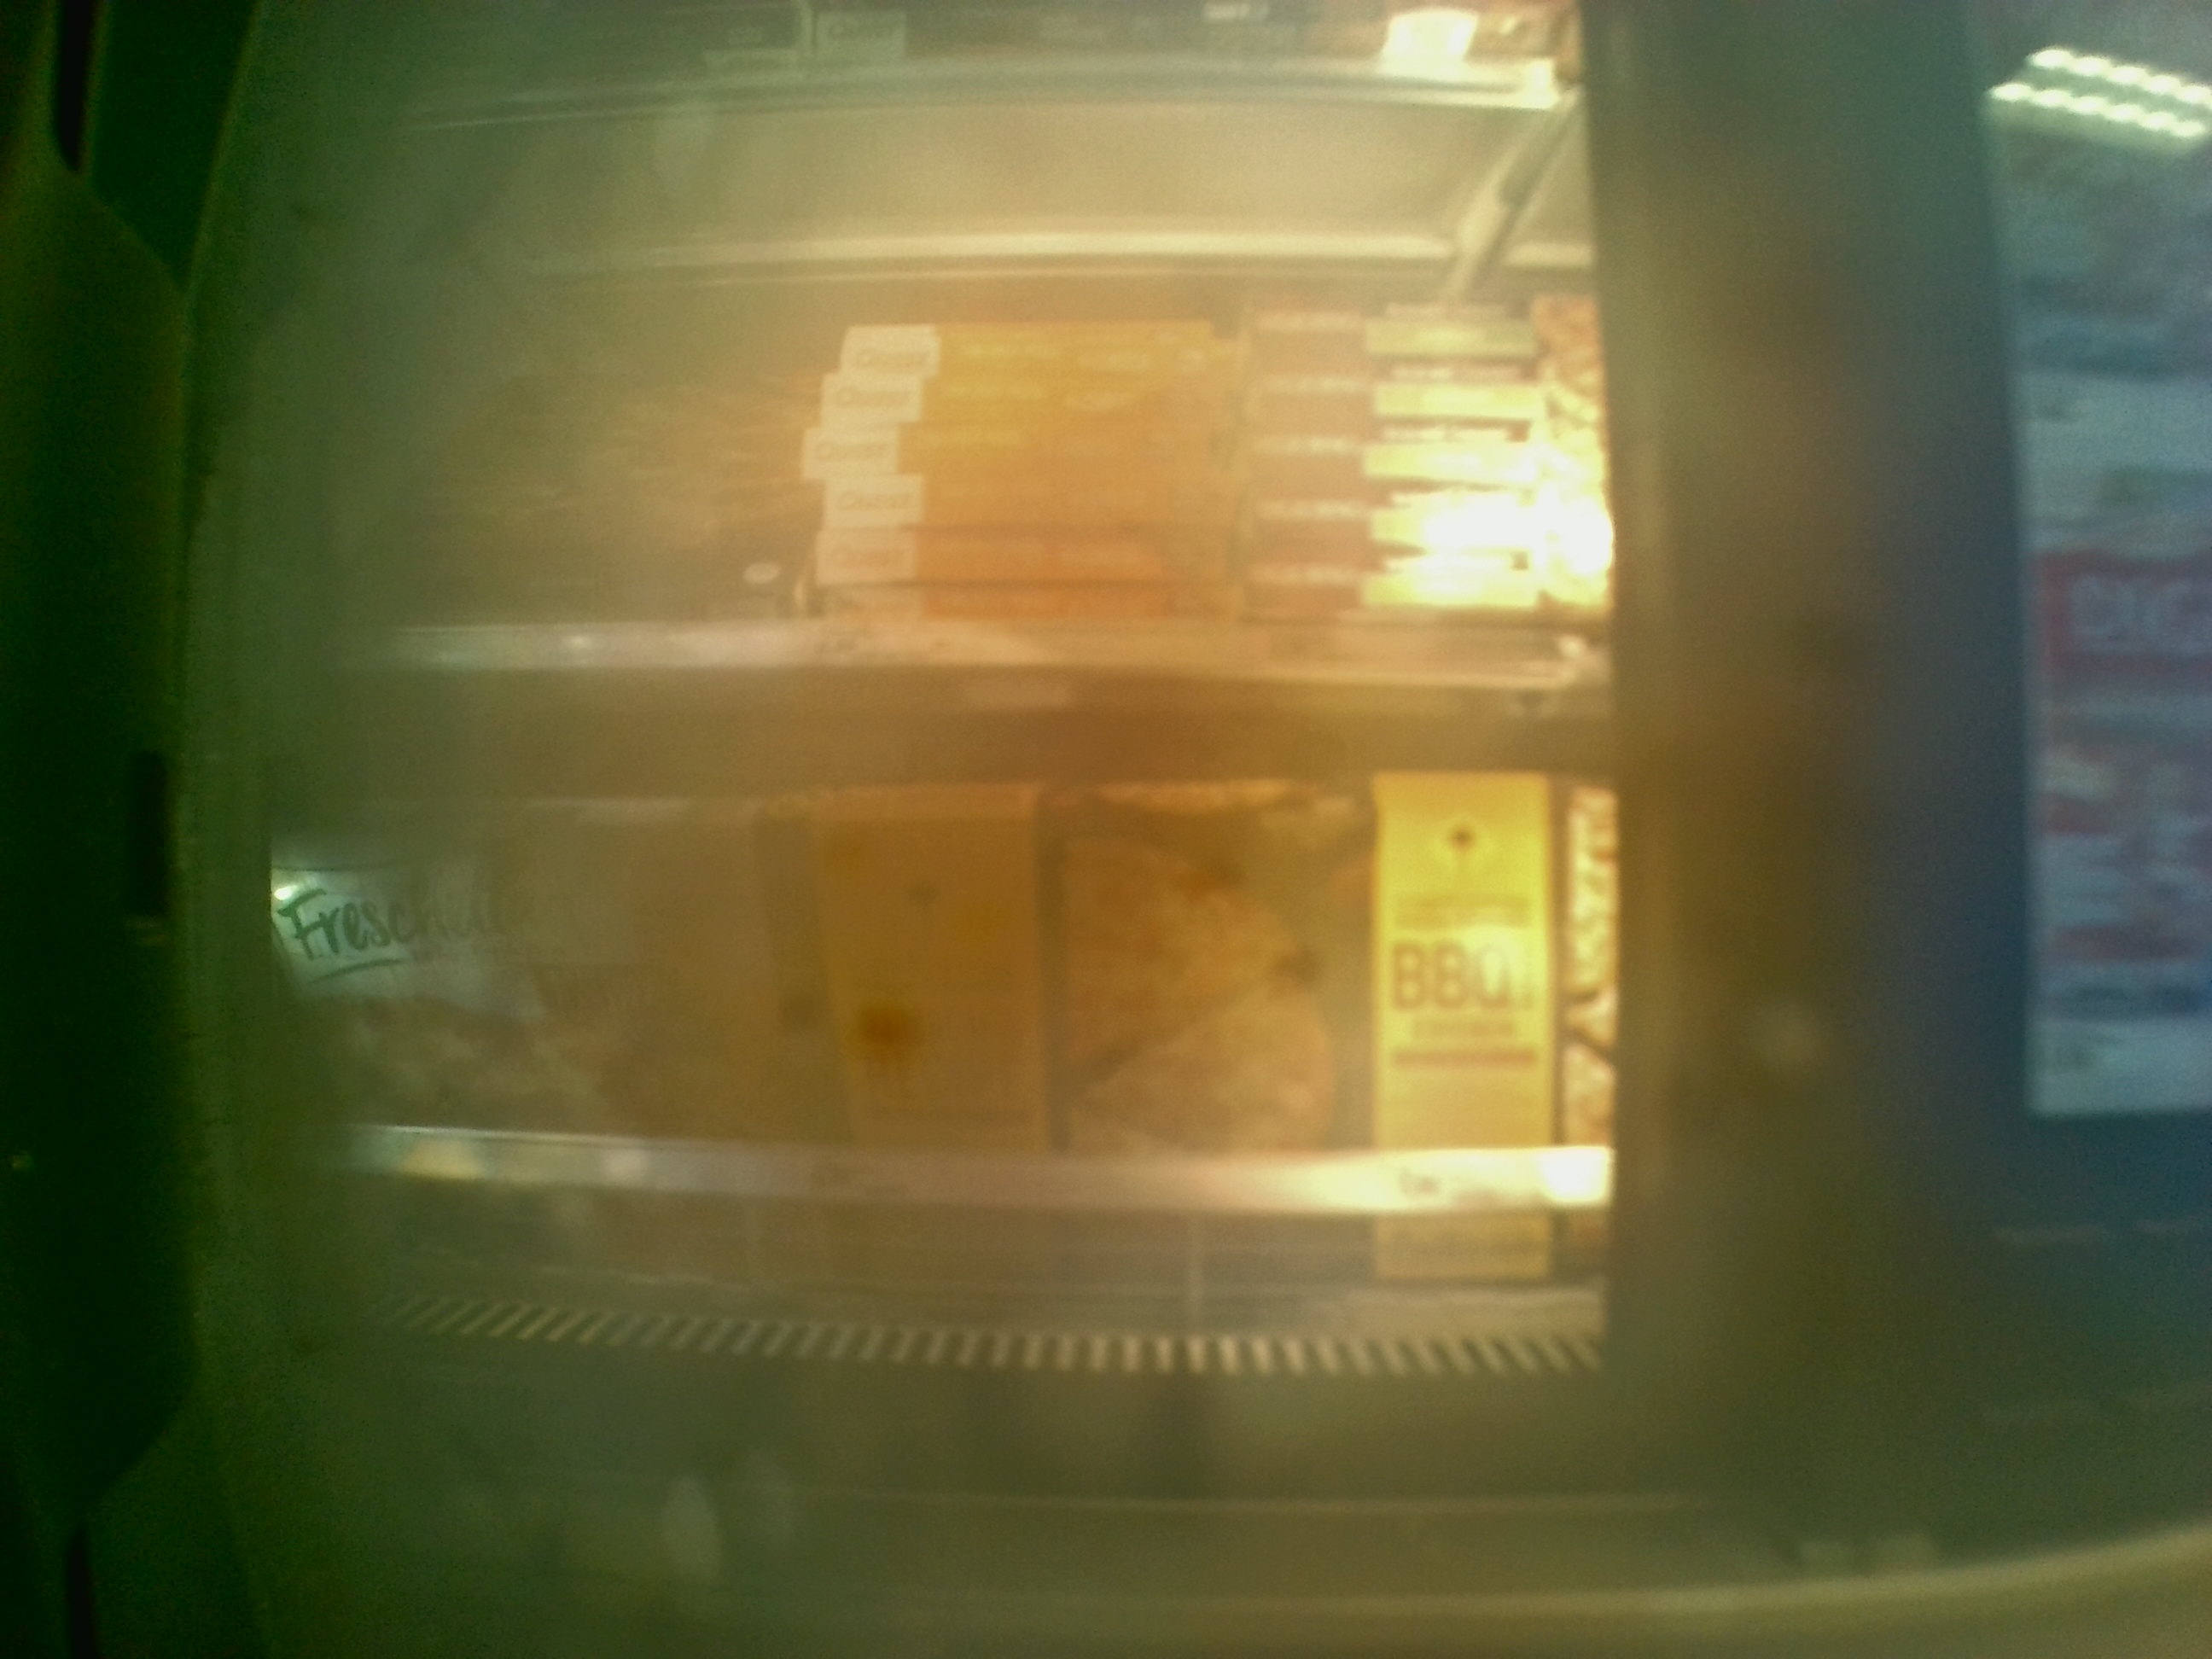pizza: (1254, 437, 1592, 497), (1259, 373, 1587, 427), (1273, 570, 1571, 617), (1256, 502, 1581, 542), (1277, 335, 1578, 364)
pizzabox: (798, 779, 1545, 1265), (275, 802, 796, 1298), (815, 538, 1252, 589), (805, 441, 1252, 488), (829, 491, 1244, 538), (852, 329, 1251, 378), (824, 383, 1235, 427), (803, 579, 1263, 617)
